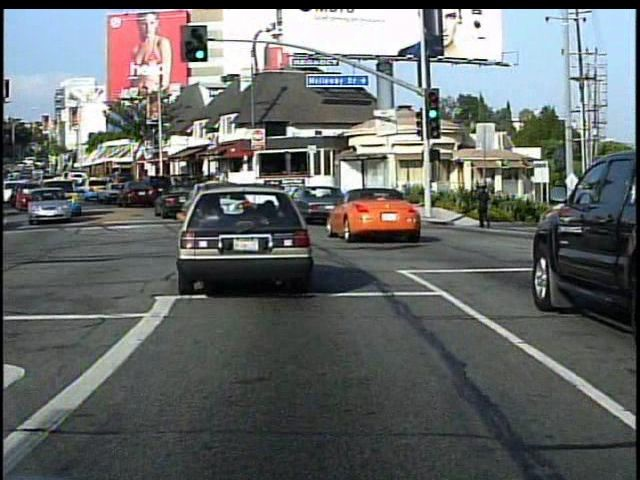person: (562, 184, 585, 245), (472, 182, 494, 229)
